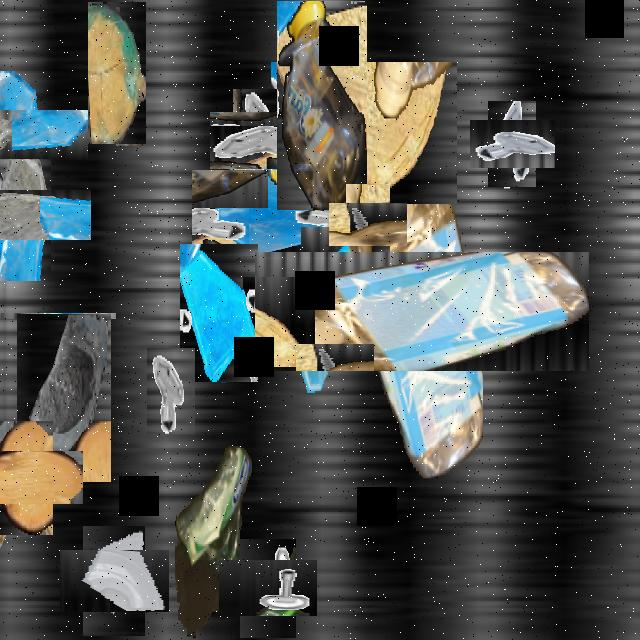glass: (257, 254, 385, 382), (17, 314, 111, 482), (210, 152, 332, 275), (180, 244, 258, 382), (71, 538, 157, 624), (0, 169, 71, 260), (0, 90, 68, 179)
metal: (222, 100, 302, 181), (229, 550, 307, 627), (478, 111, 546, 177), (147, 348, 195, 434), (338, 193, 398, 254), (243, 277, 281, 345)
plastic: (308, 198, 536, 424), (277, 2, 367, 212), (175, 443, 253, 638), (0, 258, 61, 374)
wood: (271, 62, 457, 204), (88, 2, 146, 144), (0, 436, 68, 519), (0, 416, 13, 572)
